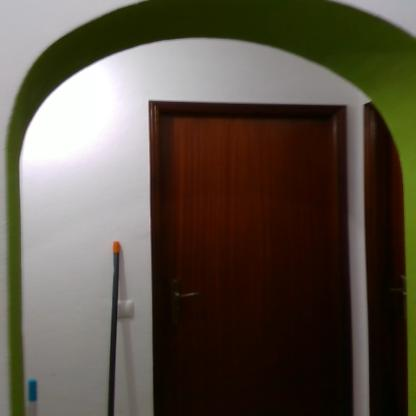closed: (134, 76, 369, 414)
